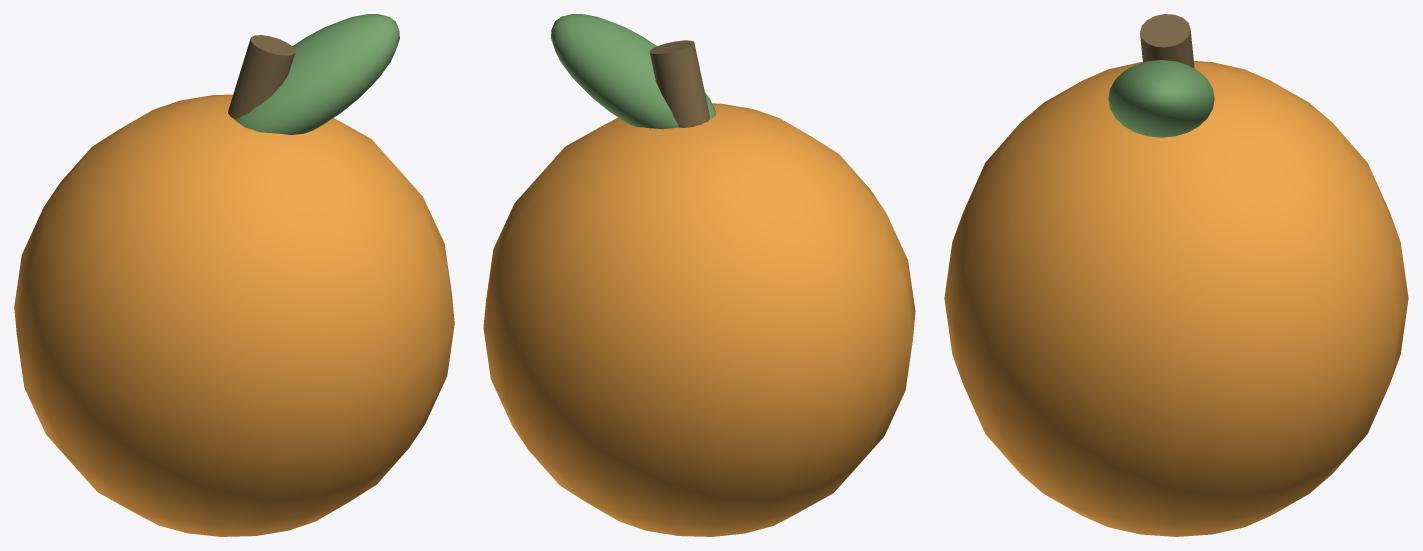
File: orange.glb
3 renders of one model, left to right at view 1: azimuth 30°, elevation 25°; view 2: azimuth 150°, elevation 25°; view 3: azimuth 270°, elevation 25°, orthographic. The views are drawn at different scales.
Parts seen in each view (by area): view 1: ball (×2), tube; view 2: ball (×2), tube; view 3: ball (×2), tube.
Boxes of the visible parts, x1,y1,x2,y2 form: ball (×2): (14,14,454,536); tube: (228,35,295,119); ball (×2): (483,14,915,536); tube: (649,40,709,127); ball (×2): (944,60,1408,536); tube: (1140,14,1194,68).
Bounding box in the file's own units: 0.64 × 0.7497 × 0.62.
